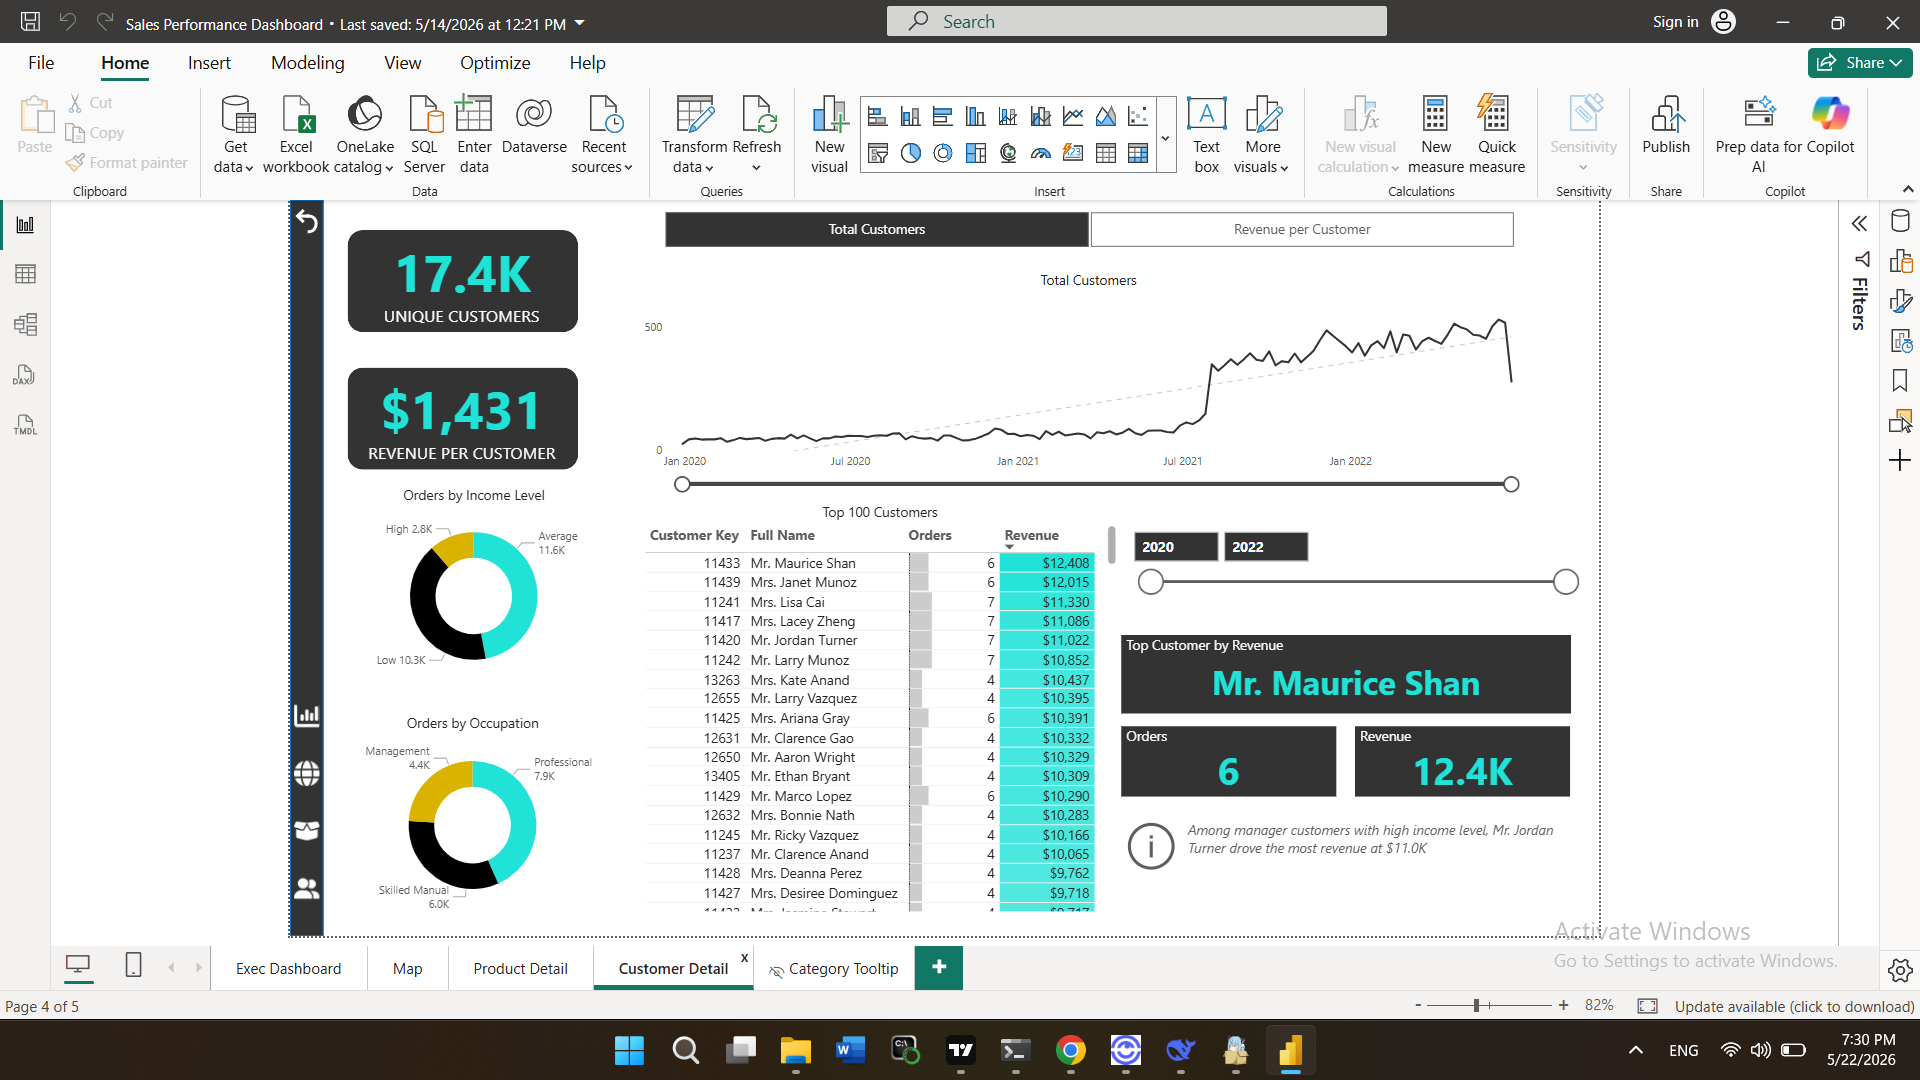

The page's visual inventory and layout, read from the dashboard file:
{"tool":"powerbi","page":{"name":"Customer Detail","canvas":[1280,720],"ordinal":3},"visuals":[{"type":"shape","box":[0,0,32.9,720],"z":1000},{"type":"actionButton","box":[0,484.2,33,40.4],"z":1000,"group":"g1"},{"type":"shape","box":[55.7,163.4,225.7,100],"z":2000},{"type":"actionButton","box":[0,540.5,33,40.4],"z":2000,"group":"g1"},{"type":"shape","box":[56,29.1,225.7,100],"z":3000},{"type":"actionButton","box":[0,596.7,33,40.4],"z":3000,"group":"g1"},{"type":"card","fields":{"Values":["Measures Table.Average Revenue per Customer"]},"box":[55.7,163.4,224.3,100],"z":4000},{"type":"actionButton","box":[0,653,33,40.4],"z":4000,"group":"g1"},{"type":"card","fields":{"Values":["Measures Table.Total Customers"]},"box":[56,29.1,224.3,100],"z":5000},{"type":"lineChart","fields":{"Category":["Calendar Lookup.Date Hierarchy.Start of Year","Calendar Lookup.Date Hierarchy.Start of Month","Calendar Lookup.Date Hierarchy.Start of Week","Calendar Lookup.Date Hierarchy.Date"],"Y":["Measures Table.Total Customers"]},"box":[341,68,880,220],"z":6000},{"type":"donutChart","title":"Orders by Income Level","fields":{"Category":["Customer Lookup.Income Level"],"Y":["Measures Table.Total Orders"]},"box":[57.1,278.6,245,200],"z":7000},{"type":"donutChart","title":"Orders by Occupation","fields":{"Category":["Customer Lookup.Occupation"],"Y":["Measures Table.Total Orders"]},"box":[56.3,502.6,245,200.5],"z":8000},{"type":"tableEx","title":"Top 100 Customers","fields":{"Values":["Customer Lookup.CustomerKey","Customer Lookup.Full Name","Measures Table.Total Orders","Measures Table.Total Revenue"]},"box":[341.2,295.9,472,404.8],"z":9000},{"type":"card","title":"Top Customer by Revenue","fields":{"Values":["Customer Lookup.Full Name (Customer Detain)"]},"box":[812.9,425.7,440,77.1],"z":10000},{"type":"card","title":"Orders","fields":{"Values":["Measures Table.Total Orders (Customer Detail)"]},"box":[812.9,514.3,210,68.6],"z":11000},{"type":"card","title":"Revenue","fields":{"Values":["Measures Table.Total Revenue (Customer Detail)"]},"box":[1041.4,514.3,210,68.6],"z":12000},{"type":"slicer","fields":{"Values":["Calendar Lookup.Year"]},"box":[812.9,314.3,455.7,94.3],"z":13000},{"type":"actionButton","box":[813.2,602.9,439,58.7],"z":14000},{"type":"actionButton","box":[0,0,33,40.4],"z":15000},{"type":"group","id":"g1","title":"Navigation Buttons","box":[0,484.2,33,209.1],"z":16000},{"type":"slicer","fields":{"Values":["Customer Metric Selection.Customer Metric Selection"]},"box":[341,5,880,48],"z":16500}]}

Visuals, with their boxes on the page's 1280x720 design canvas (x1, y1, x2, y2). These are canvas units, not pixel positions in the 1920x1080 screenshot, which may show the page scaled, cropped or inside an application window:
shape: Rect(0, 0, 33, 720)
actionButton: Rect(0, 484, 33, 525)
shape: Rect(56, 163, 281, 263)
actionButton: Rect(0, 540, 33, 581)
shape: Rect(56, 29, 282, 129)
actionButton: Rect(0, 597, 33, 637)
card - Measures Table.Average Revenue per Customer: Rect(56, 163, 280, 263)
actionButton: Rect(0, 653, 33, 693)
card - Measures Table.Total Customers: Rect(56, 29, 280, 129)
lineChart - Calendar Lookup.Date Hierarchy.Start of Year x Calendar Lookup.Date Hierarchy.Start of Month: Rect(341, 68, 1221, 288)
"Orders by Income Level" donutChart: Rect(57, 279, 302, 479)
"Orders by Occupation" donutChart: Rect(56, 503, 301, 703)
"Top 100 Customers" tableEx: Rect(341, 296, 813, 701)
"Top Customer by Revenue" card: Rect(813, 426, 1253, 503)
"Orders" card: Rect(813, 514, 1023, 583)
"Revenue" card: Rect(1041, 514, 1251, 583)
slicer - Calendar Lookup.Year: Rect(813, 314, 1269, 409)
actionButton: Rect(813, 603, 1252, 662)
actionButton: Rect(0, 0, 33, 40)
"Navigation Buttons" group: Rect(0, 484, 33, 693)
slicer - Customer Metric Selection.Customer Metric Selection: Rect(341, 5, 1221, 53)
